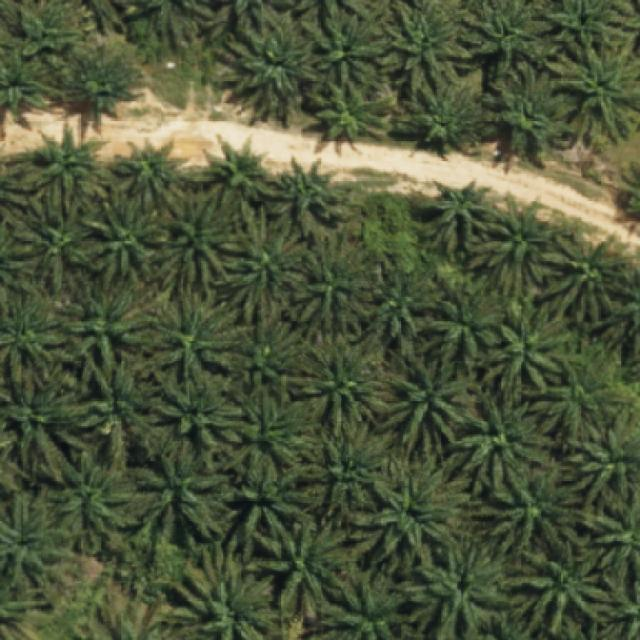Kelapa_Sawit: (350, 454, 472, 577), (443, 388, 545, 507), (245, 505, 353, 613), (134, 447, 243, 551), (211, 17, 323, 118), (39, 450, 142, 558), (498, 546, 614, 640), (465, 186, 558, 299), (216, 200, 302, 322), (153, 184, 239, 304), (297, 222, 381, 344), (291, 338, 392, 438), (76, 353, 169, 461), (388, 352, 480, 459), (538, 228, 639, 324), (144, 295, 256, 380), (528, 352, 630, 445), (301, 420, 390, 526), (551, 37, 640, 140), (218, 458, 311, 556), (481, 298, 570, 400), (56, 279, 159, 367), (220, 380, 306, 483), (490, 463, 582, 559), (78, 195, 168, 288), (489, 59, 571, 161), (386, 0, 468, 100), (10, 193, 99, 285), (154, 369, 248, 454), (425, 278, 509, 370), (53, 38, 145, 120), (372, 255, 446, 351), (303, 13, 391, 87), (416, 178, 496, 258), (199, 131, 276, 209), (114, 137, 191, 214), (308, 76, 392, 144), (38, 122, 107, 198), (274, 155, 346, 227), (235, 308, 299, 388), (406, 82, 482, 149)
